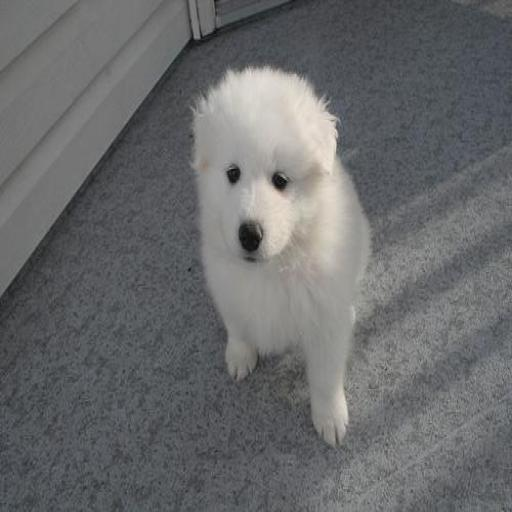dog_face: (192, 77, 337, 266)
